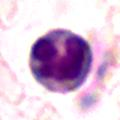monocyte: (28, 27, 92, 93)
